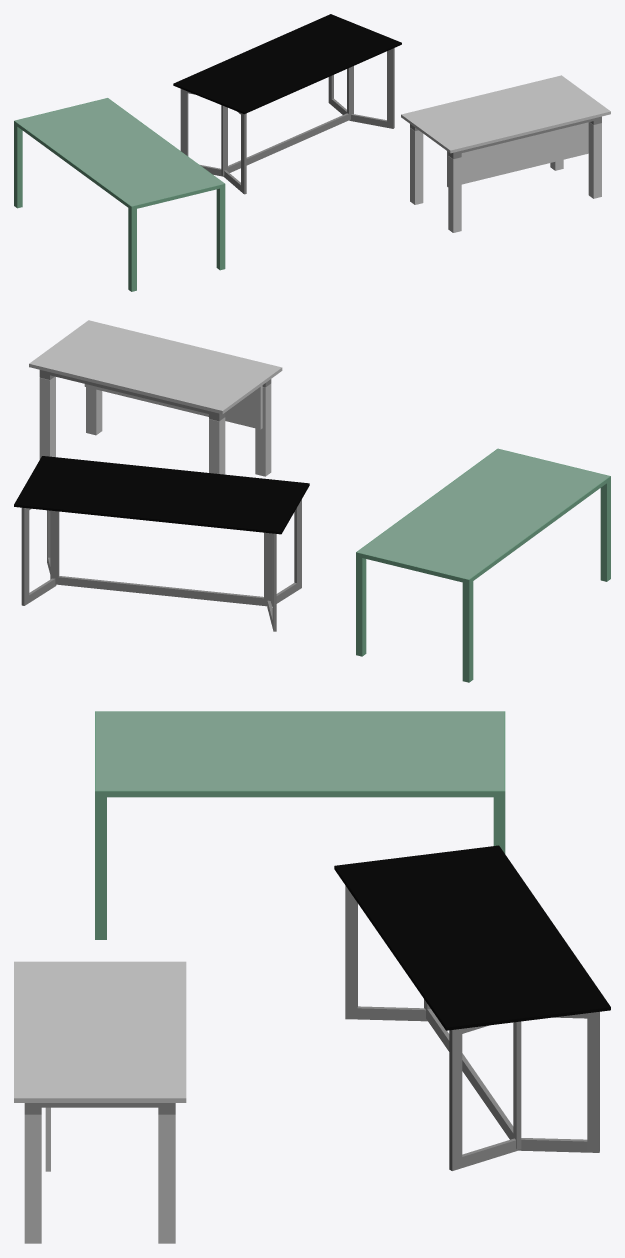
Rendered from office_tables.obj.
3 views of the same model, one above another, from view 1: azimuth 30°, elevation 25°; view 2: azimuth 150°, elevation 25°; view 3: azimuth 270°, elevation 25° (orthographic). The views are drawn at different scales.
Visible parts, largest first — view 1: mesa_oficina_Cube.008, mesa_oficina.003_Cube.114, Cristal_mesaPija_Cube.026, Patas_mesaPija_Cube.025, soporte_mesa_Cube.004; view 2: mesa_oficina_Cube.008, mesa_oficina.003_Cube.114, Cristal_mesaPija_Cube.026, Patas_mesaPija_Cube.025, soporte_mesa_Cube.004; view 3: mesa_oficina.003_Cube.114, mesa_oficina_Cube.008, Cristal_mesaPija_Cube.026, Patas_mesaPija_Cube.025, soporte_mesa_Cube.004.
Boxes of the visible parts, box(x1,y1,x2,y2) form: mesa_oficina_Cube.008: box(401, 75, 610, 232); mesa_oficina.003_Cube.114: box(15, 98, 224, 206); Cristal_mesaPija_Cube.026: box(173, 14, 401, 114); Patas_mesaPija_Cube.025: box(180, 48, 394, 194); soporte_mesa_Cube.004: box(14, 98, 225, 291); mesa_oficina_Cube.008: box(29, 320, 282, 476); mesa_oficina.003_Cube.114: box(357, 449, 609, 579); Cristal_mesaPija_Cube.026: box(14, 456, 309, 534); Patas_mesaPija_Cube.025: box(21, 499, 301, 631); soporte_mesa_Cube.004: box(356, 448, 610, 682); mesa_oficina.003_Cube.114: box(96, 711, 504, 790); mesa_oficina_Cube.008: box(14, 961, 186, 1243); Cristal_mesaPija_Cube.026: box(334, 845, 610, 1030); Patas_mesaPija_Cube.025: box(345, 885, 599, 1170); soporte_mesa_Cube.004: box(95, 711, 505, 939).
Bounding box in the file's own units: 4.29 × 0.7751 × 2.79.
